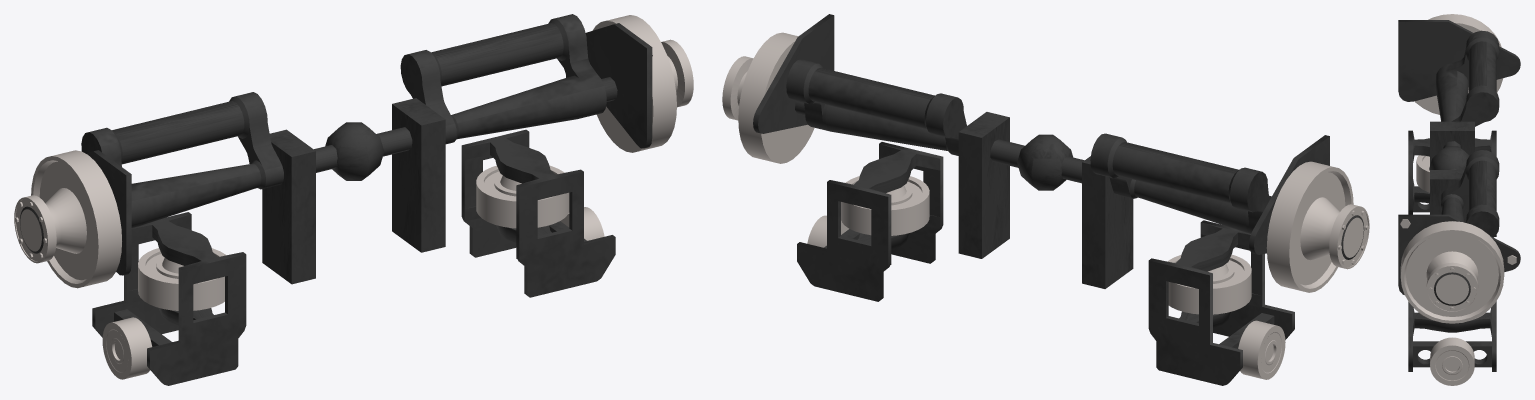
Rendered from millflyrearbogie.glb.
3 renders of one model, left to right at view 1: azimuth 30°, elevation 25°; view 2: azimuth 150°, elevation 25°; view 3: azimuth 270°, elevation 25°, orthographic. The views are drawn at different scales.
Parts seen in each view (by area): view 1: Shocks, Wheel Frame, Road Wheel, Plate Metal, Side Wheel, Upstop; view 2: Shocks, Wheel Frame, Road Wheel, Side Wheel, Plate Metal, Upstop; view 3: Shocks, Road Wheel, Plate Metal, Wheel Frame, Upstop, Side Wheel.
Boxes of the visible parts, x1,y1,x2,y2 form: Shocks: [81, 14, 617, 284]; Wheel Frame: [92, 129, 615, 385]; Road Wheel: [14, 15, 693, 288]; Plate Metal: [86, 23, 652, 275]; Side Wheel: [138, 165, 569, 310]; Upstop: [102, 207, 604, 379]; Shocks: [786, 59, 1271, 288]; Wheel Frame: [797, 142, 1294, 385]; Road Wheel: [722, 32, 1369, 292]; Side Wheel: [841, 176, 1251, 314]; Plate Metal: [753, 14, 1329, 254]; Upstop: [807, 215, 1285, 379]; Shocks: [1429, 30, 1499, 237]; Road Wheel: [1400, 14, 1504, 323]; Plate Metal: [1398, 20, 1520, 294]; Wheel Frame: [1408, 130, 1496, 371]; Upstop: [1430, 337, 1474, 385]; Side Wheel: [1416, 155, 1485, 319].
Bounding box in the file's own units: 1.23 × 0.4257 × 0.2633.
1 material, 1 textured.
